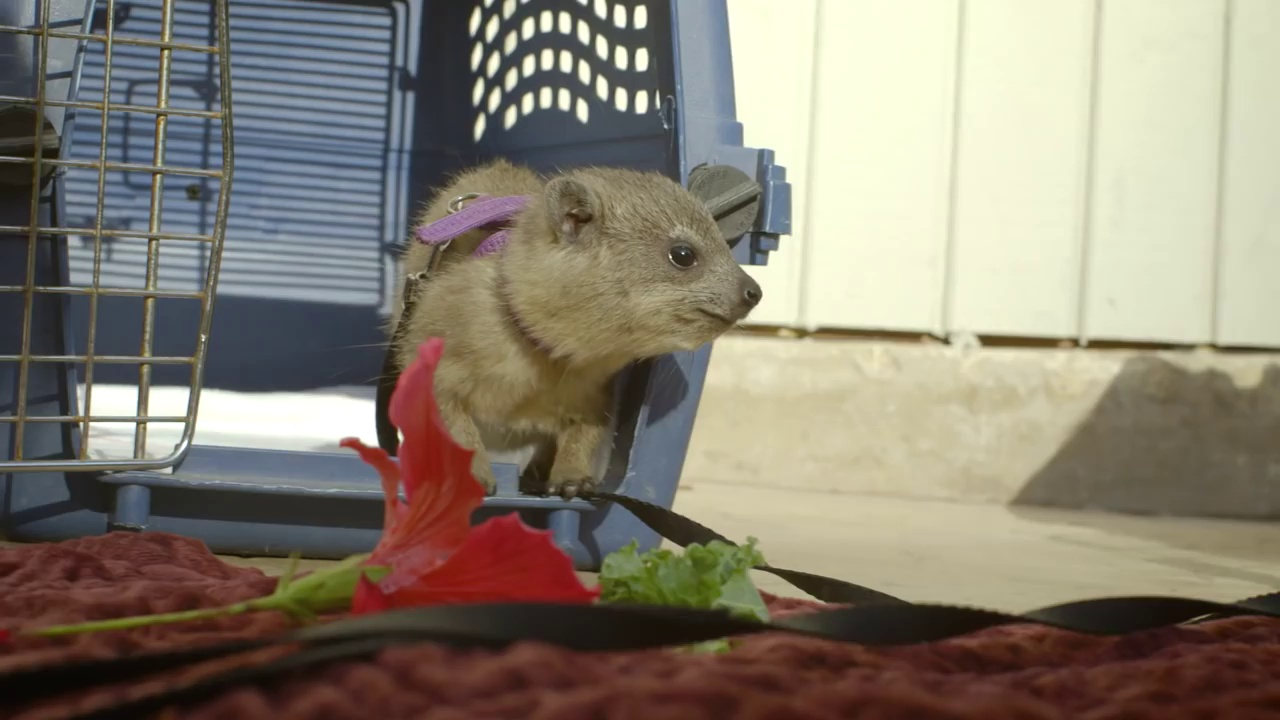Rock Hyrex: (393, 158, 760, 507)
